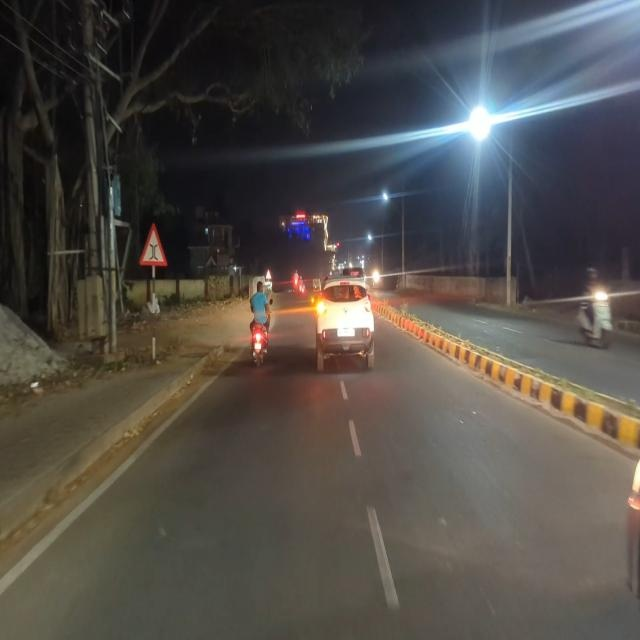bien_nguy_hiem: (138, 222, 168, 267)
